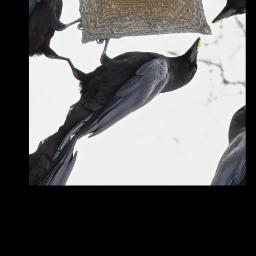Crow: (30, 0, 218, 169)
